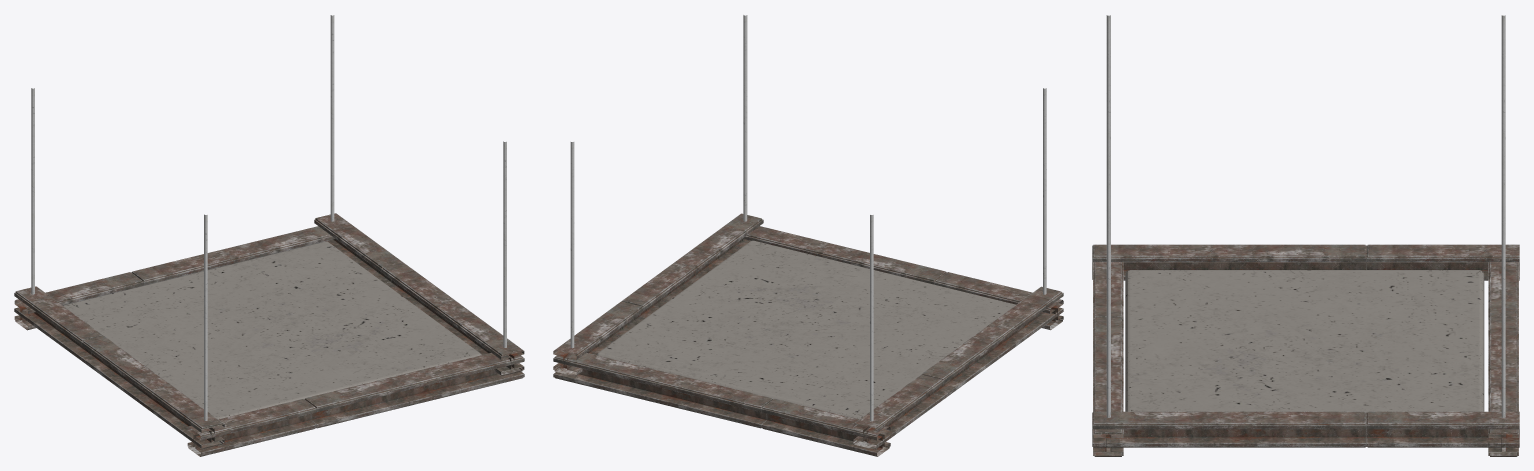
Rendered from SM_Ceiling_Scaffold_Quarter.glb.
The picture shows the model from 3 angles, left to right: view 1: azimuth 30°, elevation 25°; view 2: azimuth 150°, elevation 25°; view 3: azimuth 270°, elevation 25°; orthographic projection. The views are drawn at different scales.
Visible parts, largest first — view 1: SM_Ceiling_Scaffold_Quarter; view 2: SM_Ceiling_Scaffold_Quarter; view 3: SM_Ceiling_Scaffold_Quarter.
Boxes of the visible parts, x1,y1,x2,y2 form: SM_Ceiling_Scaffold_Quarter: [14, 15, 524, 456]; SM_Ceiling_Scaffold_Quarter: [553, 15, 1063, 456]; SM_Ceiling_Scaffold_Quarter: [1092, 15, 1519, 456].
Size of the model in its own units: 1.35 by 0.9392 by 1.35.
Materials: 3 (3 with a texture image).
